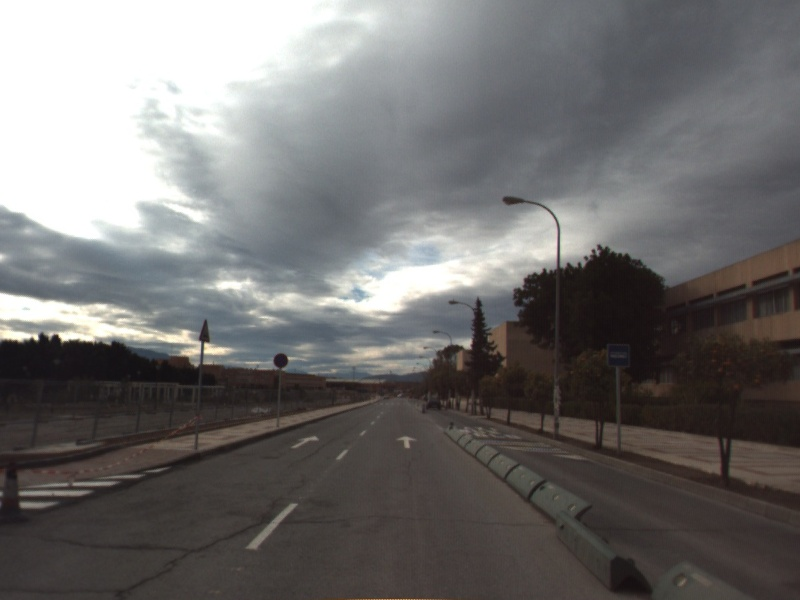STRAIGHT: (288, 433, 321, 451), (394, 433, 419, 450)
